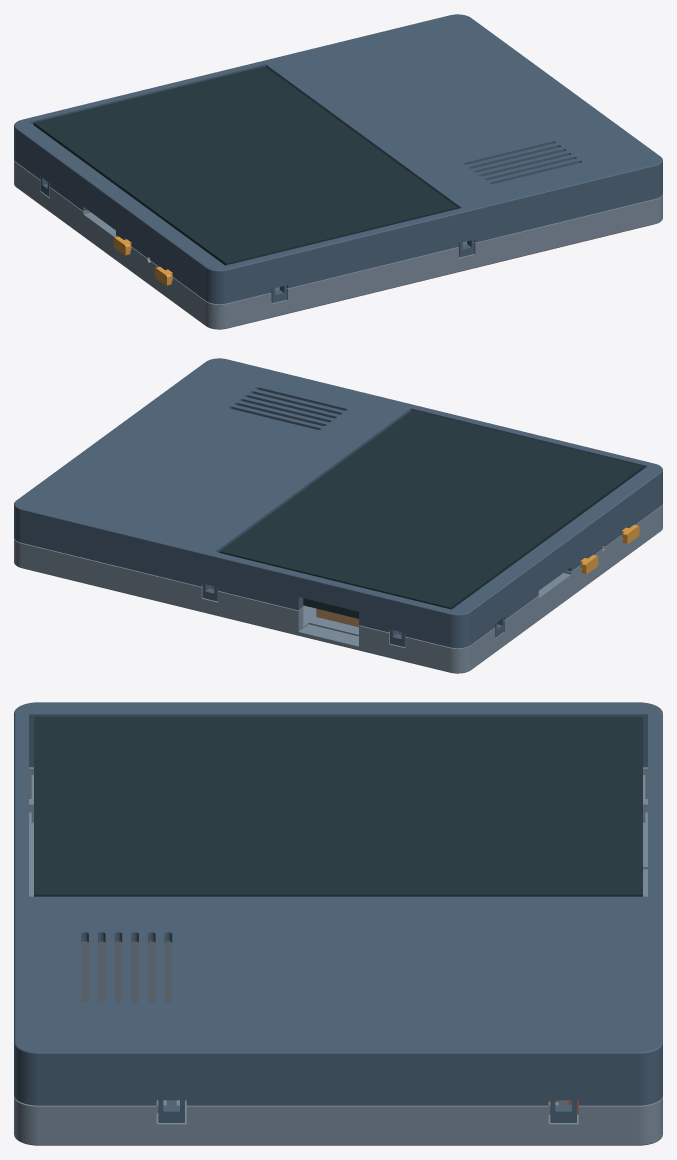
Rendered from assembly_light.glb.
The picture shows the model from 3 angles, top to bottom: view 1: azimuth 30°, elevation 25°; view 2: azimuth 150°, elevation 25°; view 3: azimuth 270°, elevation 25°; orthographic projection. The views are drawn at different scales.
Visible parts, largest first — view 1: FRONT_T0_FLUSH, DISPLAY_ENVELOPE_NOT_DETAIL, REAR_T0_1_2mm; view 2: FRONT_T0_FLUSH, DISPLAY_ENVELOPE_NOT_DETAIL, REAR_T0_1_2mm; view 3: FRONT_T0_FLUSH, DISPLAY_ENVELOPE_NOT_DETAIL, REAR_T0_1_2mm, SPEAKER_UNVERIFIED.
Part boxes in pixels (<box>): FRONT_T0_FLUSH: <box>14,14,662,304</box>; DISPLAY_ENVELOPE_NOT_DETAIL: <box>33,66,457,265</box>; REAR_T0_1_2mm: <box>14,160,662,329</box>; FRONT_T0_FLUSH: <box>14,358,662,648</box>; DISPLAY_ENVELOPE_NOT_DETAIL: <box>219,410,643,618</box>; REAR_T0_1_2mm: <box>14,504,662,673</box>; FRONT_T0_FLUSH: <box>14,702,662,1122</box>; DISPLAY_ENVELOPE_NOT_DETAIL: <box>34,716,642,896</box>; REAR_T0_1_2mm: <box>14,767,662,1145</box>; SPEAKER_UNVERIFIED: <box>81,941,172,1002</box>.
Bounding box in the file's own units: 0.1015 × 0.0124 × 0.0779.
